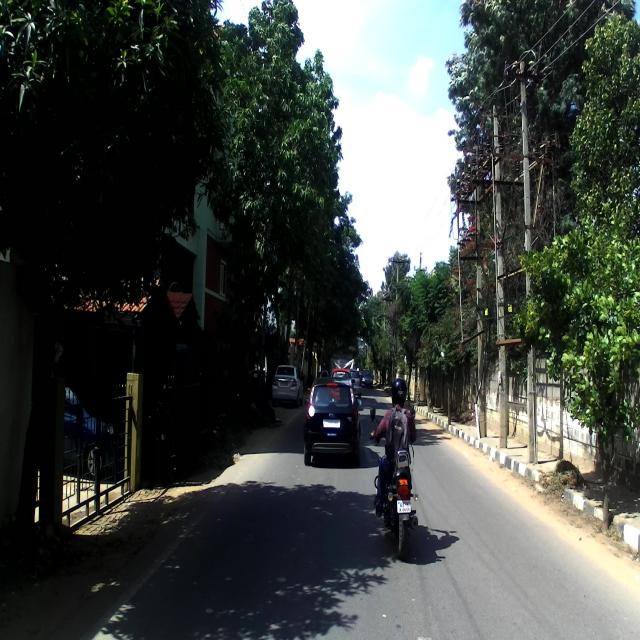car: (303, 375, 364, 465), (272, 364, 302, 406)
motorcycle: (368, 406, 419, 559)
